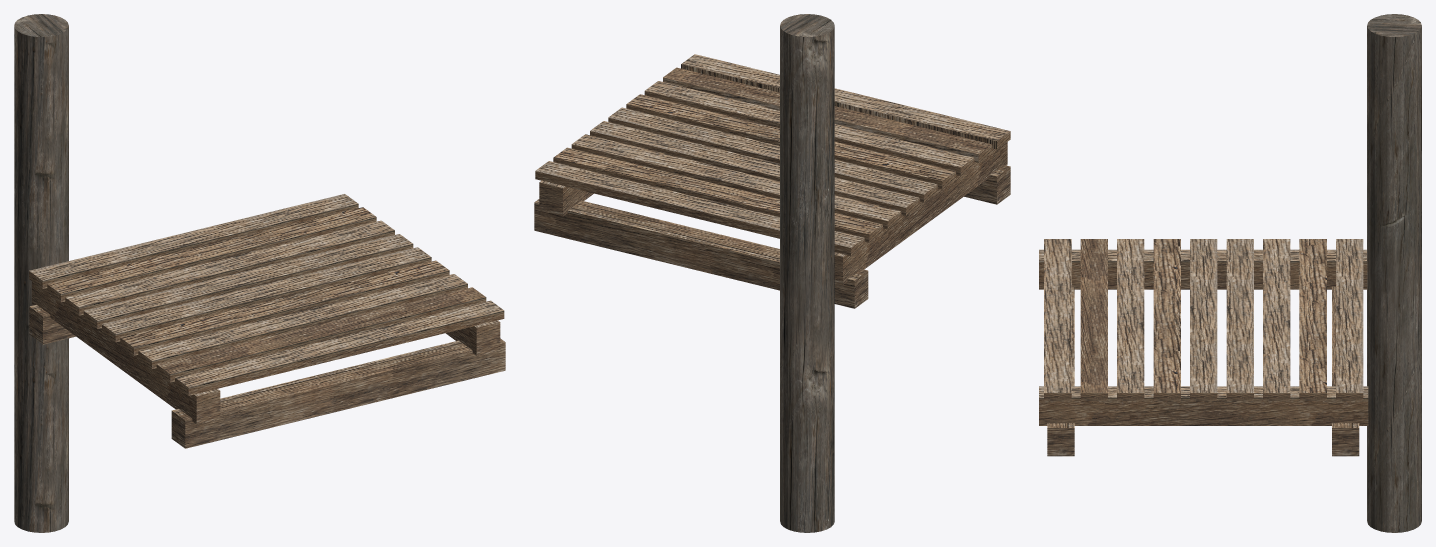
File: Kitt plataforma.fbx
The picture shows the model from 3 angles, left to right: view 1: azimuth 30°, elevation 25°; view 2: azimuth 150°, elevation 25°; view 3: azimuth 270°, elevation 25°; orthographic projection.
Parts seen in each view (by area): view 1: Tabla.004, Cylinder.012, Tabla.001, Tabla.002; view 2: Tabla.004, Cylinder.012, Tabla.002, Tabla.001; view 3: Tabla.004, Cylinder.012, Tabla.002, Tabla.001.
Boxes of the visible parts, box(x1,y1,x2,y2) form: Tabla.004: box(29, 194, 504, 424); Cylinder.012: box(14, 14, 68, 532); Tabla.001: box(171, 338, 505, 448); Tabla.002: box(29, 304, 75, 344); Tabla.004: box(535, 54, 1010, 284); Cylinder.012: box(780, 14, 834, 532); Tabla.002: box(534, 199, 868, 308); Tabla.001: box(964, 164, 1010, 204); Tabla.004: box(1039, 239, 1368, 425); Cylinder.012: box(1367, 14, 1421, 532); Tabla.002: box(1332, 286, 1359, 456); Tabla.001: box(1047, 286, 1074, 456).
Bounding box in the file's own units: 406 × 600 × 420.
Materials: 2 (2 with a texture image).
